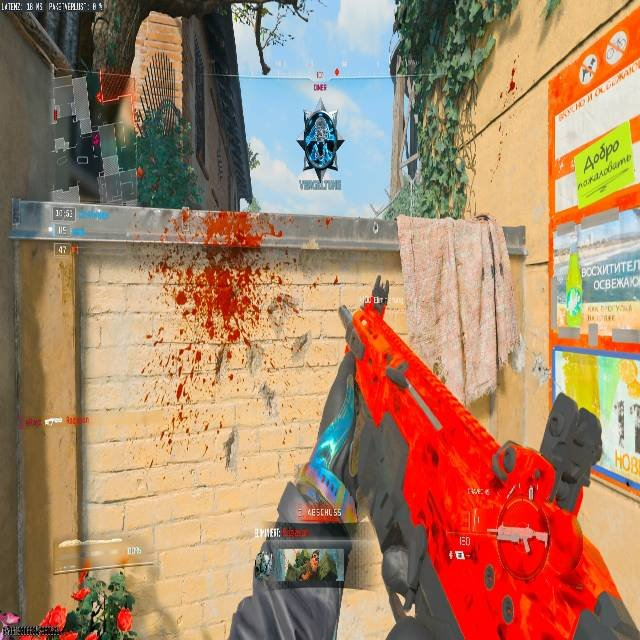player: (296, 104, 344, 183)
